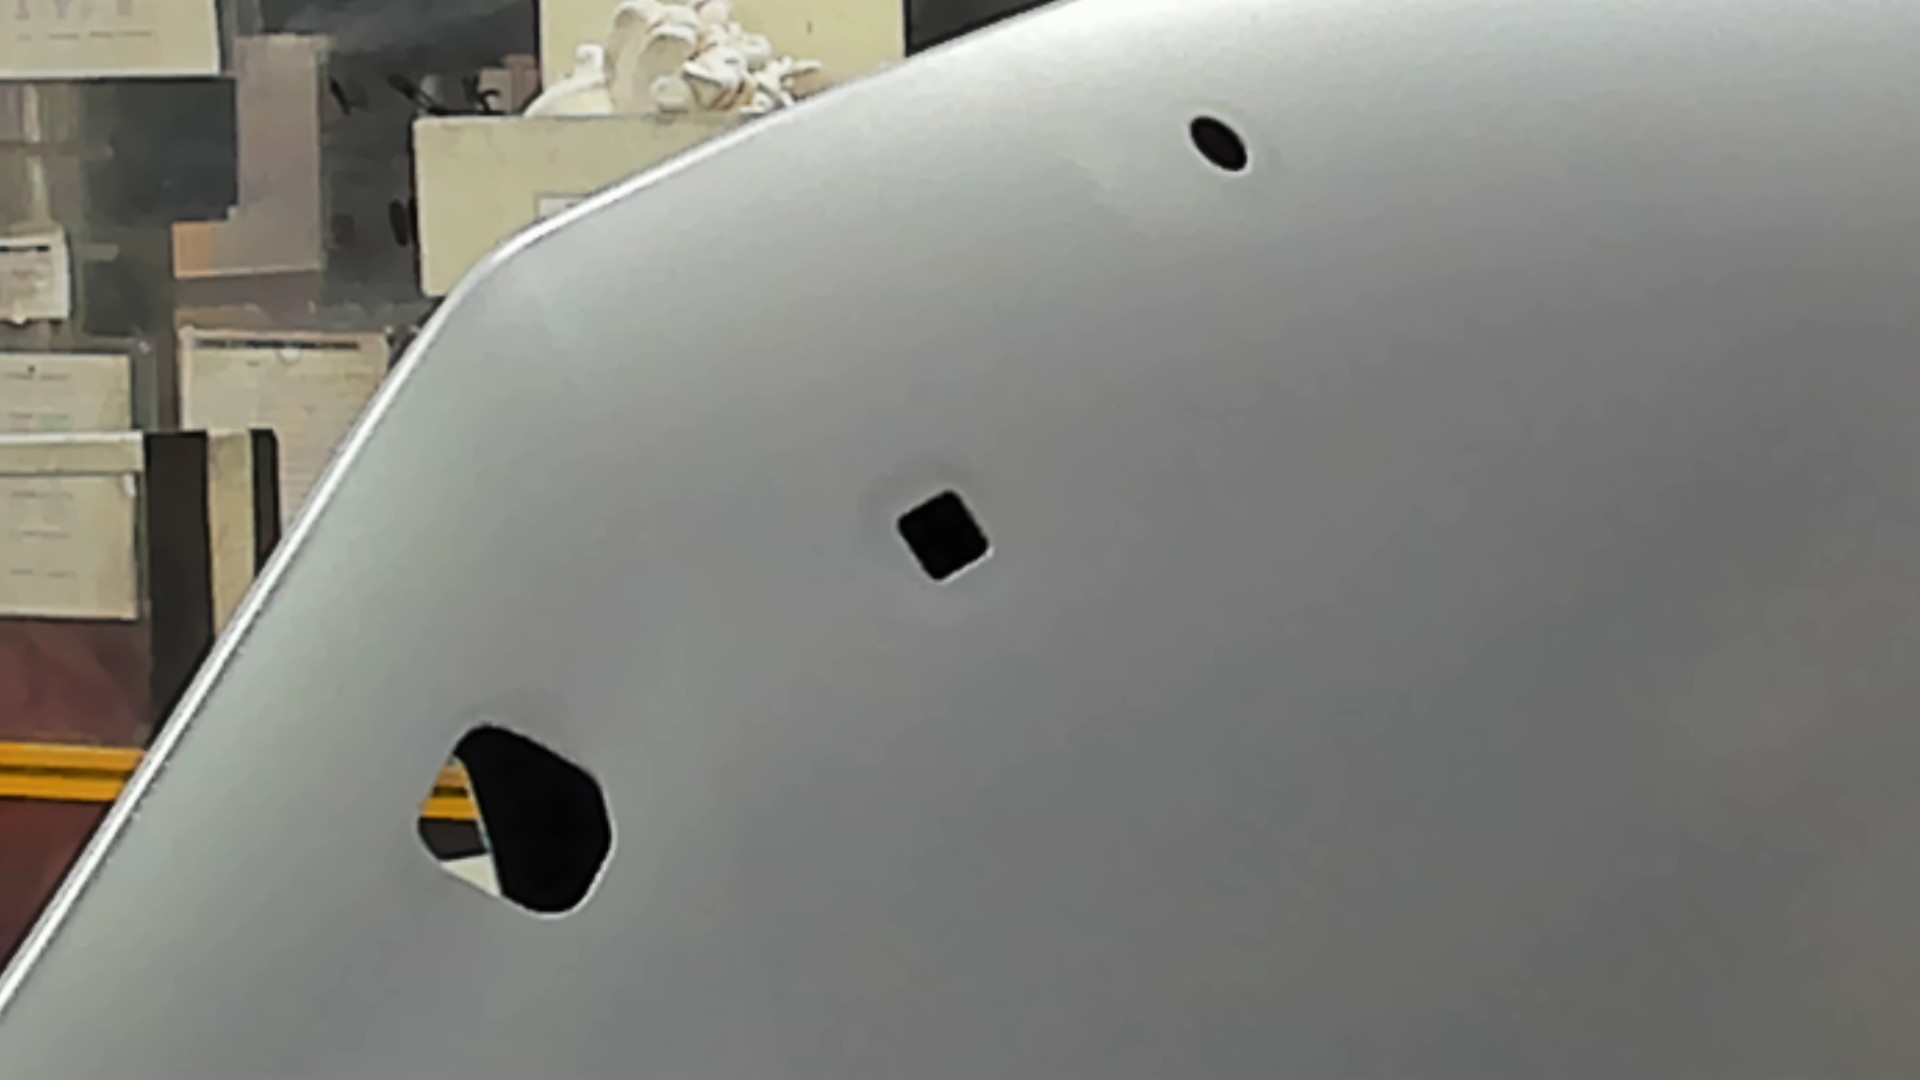chico: (1182, 109, 1254, 178)
grande: (410, 711, 621, 927)
mediano: (887, 485, 1001, 589)
